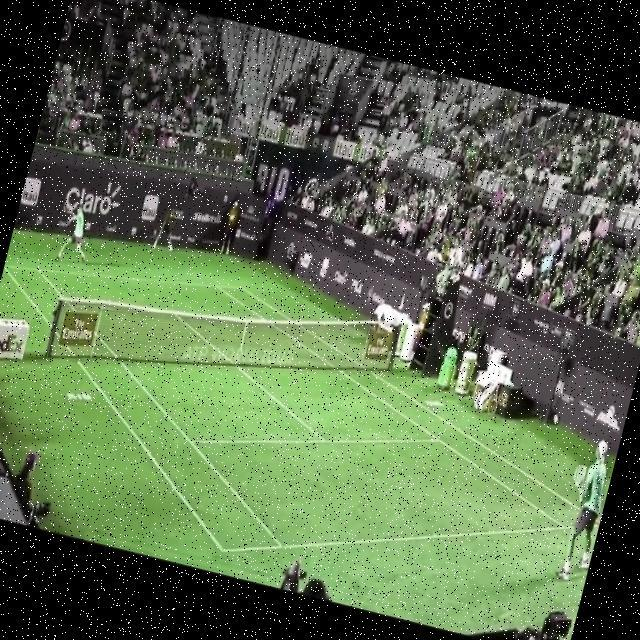court: (0, 231, 633, 639)
net: (41, 238, 404, 442)
player: (548, 434, 620, 587)
